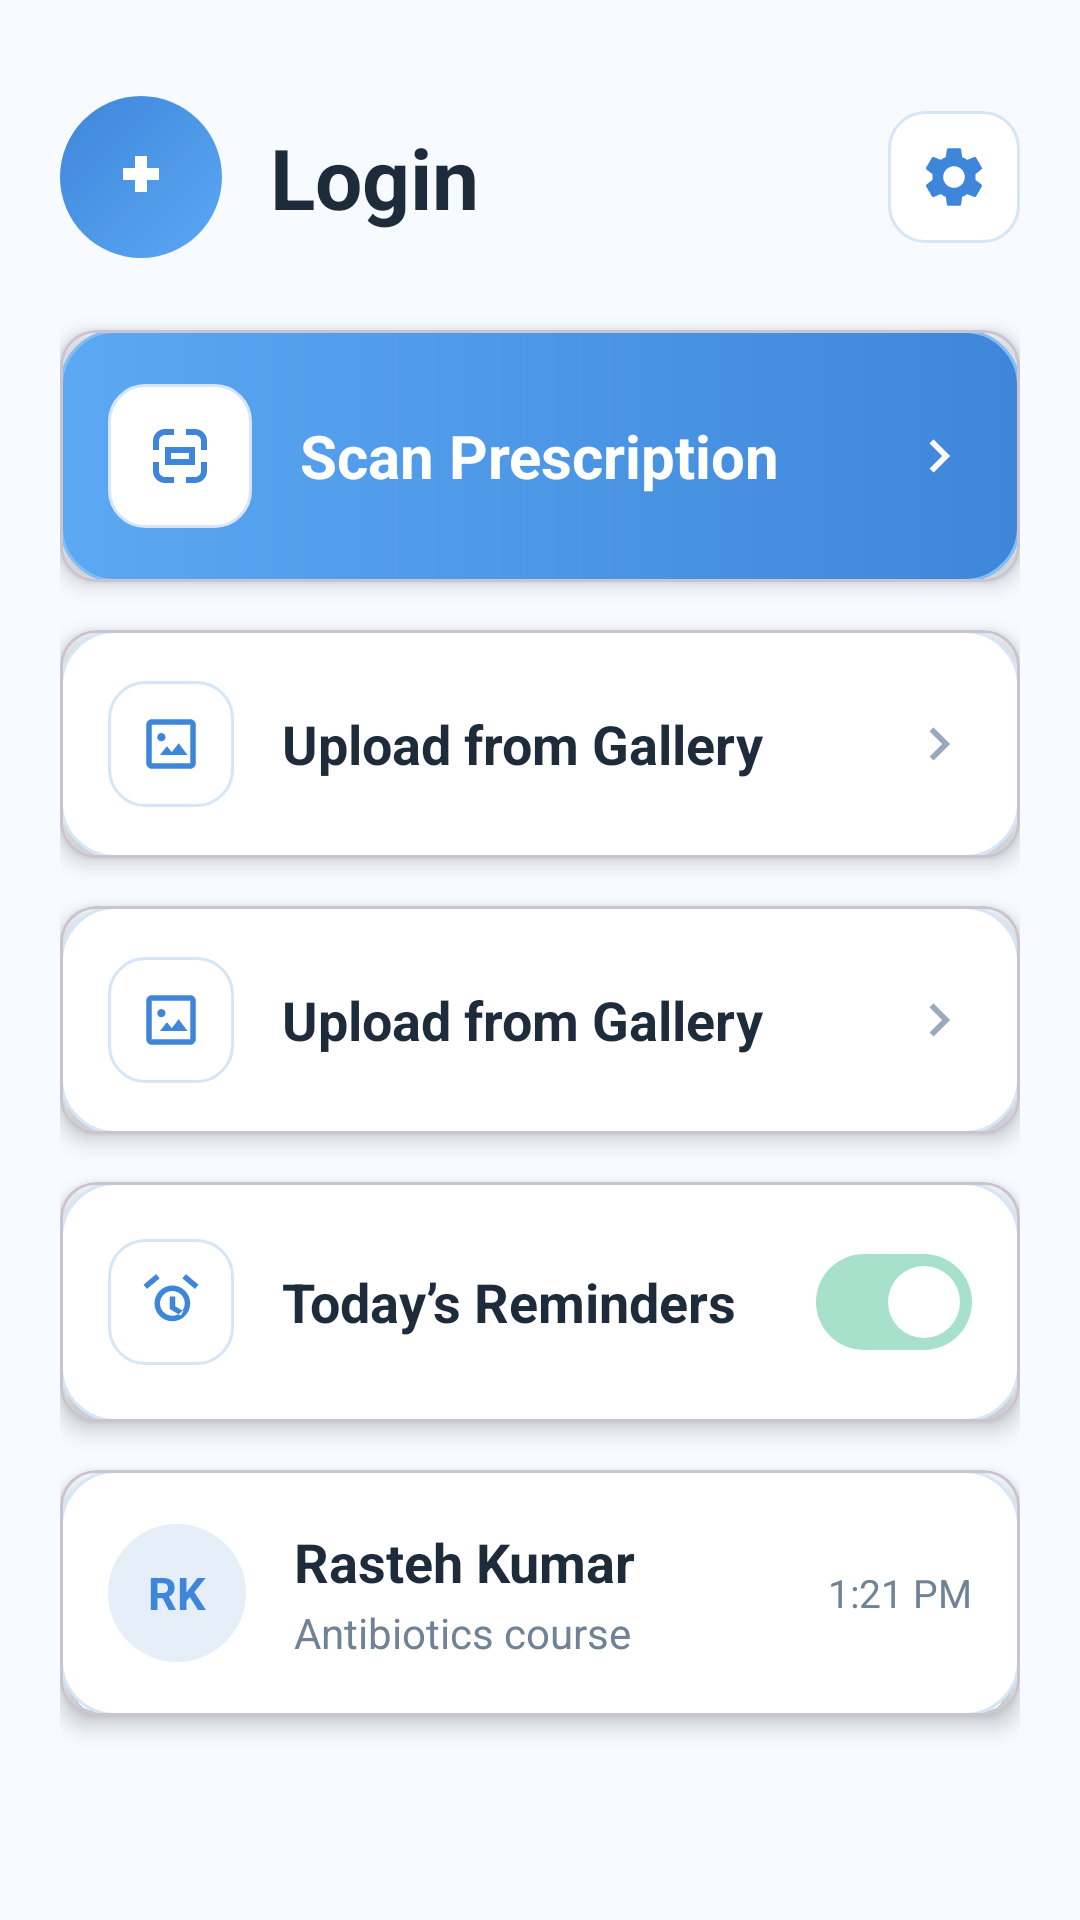

Icon click points for this 1080x1920 phone screenshot, format point (x, y):
arrow right: point (939, 456), point (939, 744), point (939, 1020)
Open settings: point (954, 177)
